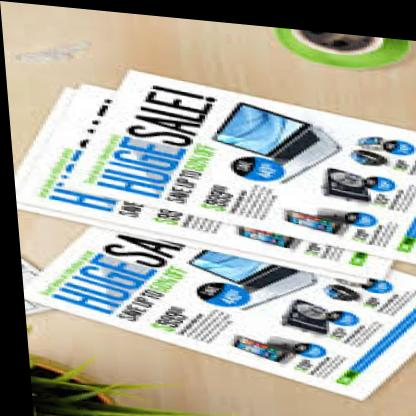Paper: (12, 49, 416, 397)
